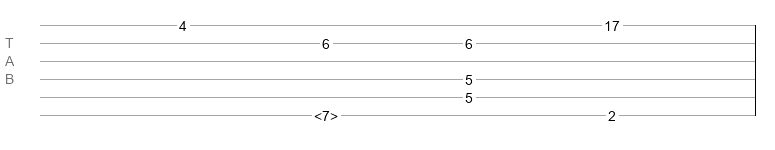17: (604, 18, 620, 28)
2: (608, 108, 616, 118)
4: (179, 18, 187, 28)
5: (465, 90, 473, 100), (465, 72, 473, 82)
6: (322, 36, 330, 46), (465, 36, 473, 46)
harmonic: (314, 108, 338, 118)
